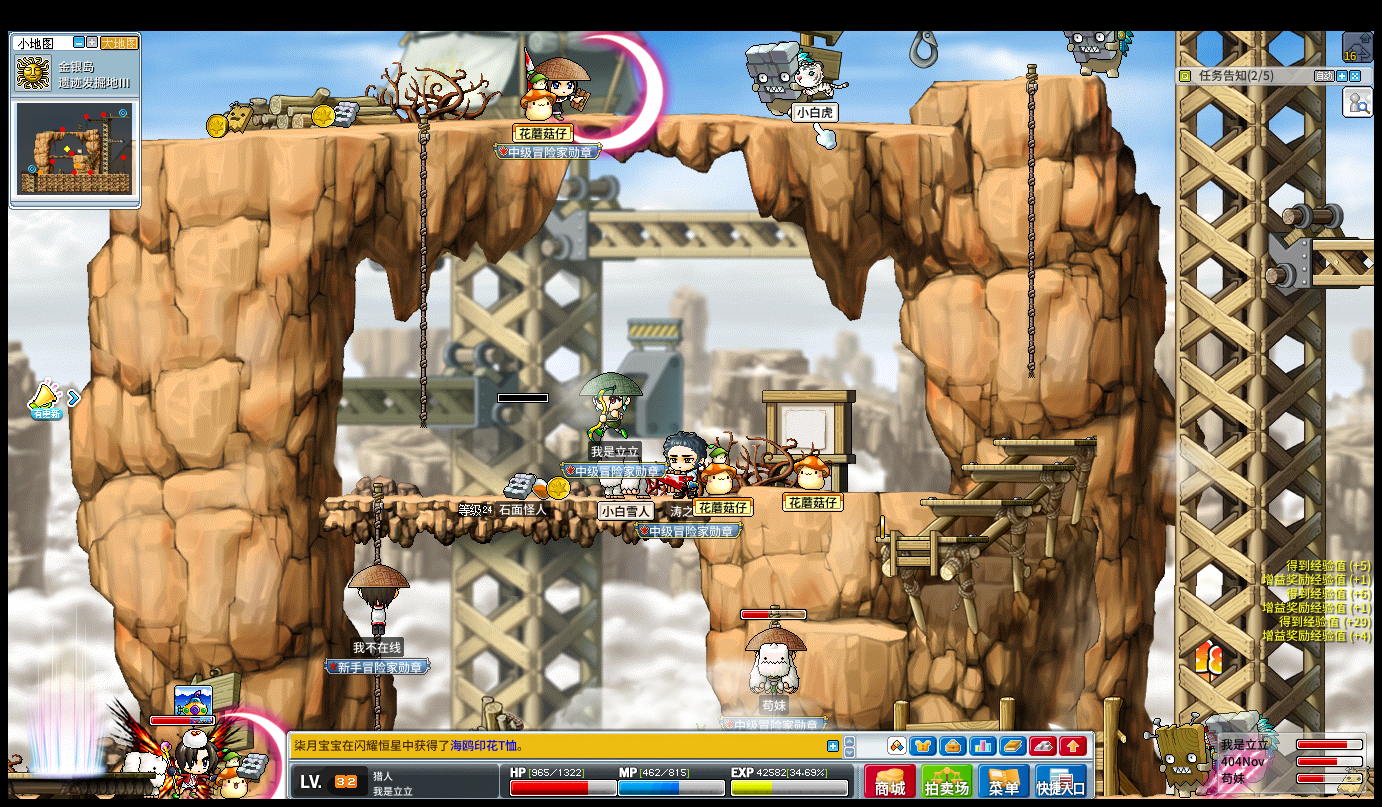floor: (137, 109, 978, 143), (318, 494, 707, 504), (930, 70, 1104, 84), (799, 618, 906, 640), (827, 487, 958, 498), (872, 533, 987, 543), (827, 487, 953, 496), (1302, 233, 1379, 247), (957, 462, 1074, 471), (992, 437, 1096, 447), (919, 498, 1032, 506)
monster: (1207, 710, 1278, 792), (1147, 714, 1217, 793), (743, 38, 804, 119)
rope: (1024, 60, 1039, 382), (418, 116, 429, 438), (368, 481, 382, 564), (371, 674, 381, 730)
